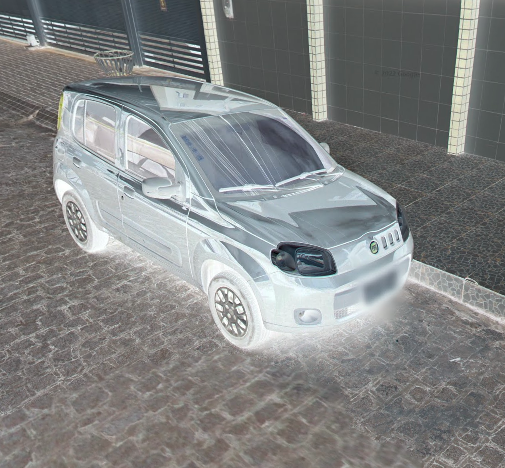car: (48, 74, 416, 354)
